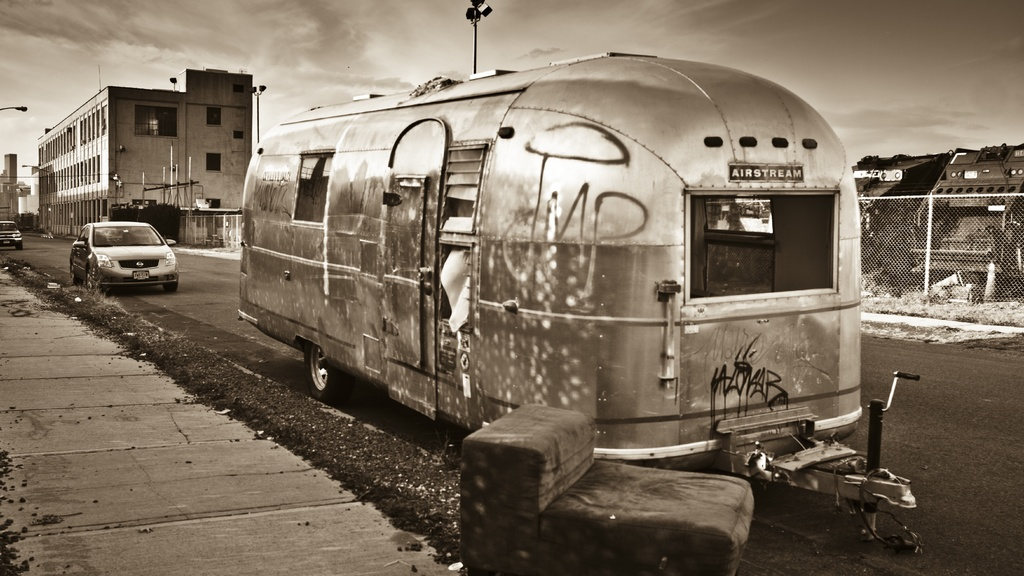cars: (69, 214, 174, 287), (0, 215, 29, 248)
